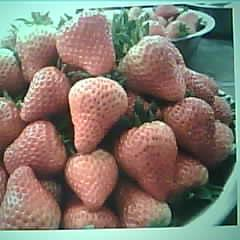straw-ripe: (115, 122, 177, 199), (68, 78, 129, 155), (118, 37, 186, 100), (55, 10, 115, 74), (0, 169, 61, 231), (66, 153, 116, 208), (20, 67, 69, 123)
